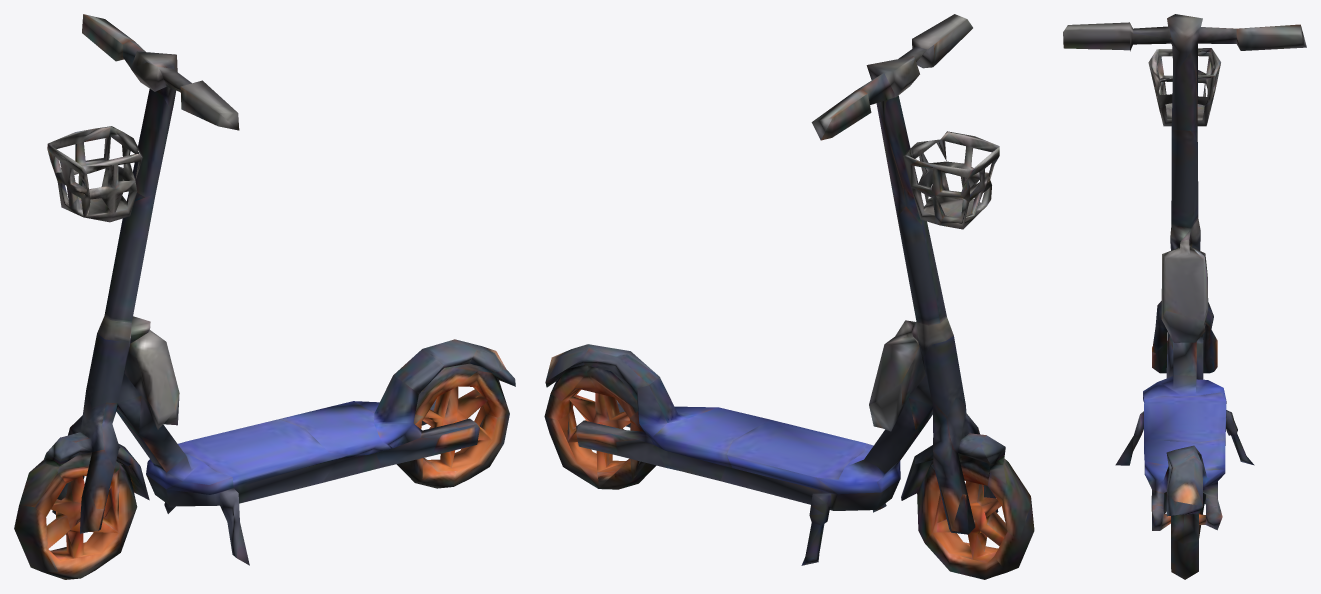
Rendered from scooter.lod.glb.
3 renders of one model, left to right at view 1: azimuth 30°, elevation 25°; view 2: azimuth 150°, elevation 25°; view 3: azimuth 270°, elevation 25°, orthographic. The views are drawn at different scales.
Visible parts, largest first — view 1: tripo_node_8225a8a8-f46b-4fe4-a907-0fed9631a1b2; view 2: tripo_node_8225a8a8-f46b-4fe4-a907-0fed9631a1b2; view 3: tripo_node_8225a8a8-f46b-4fe4-a907-0fed9631a1b2.
Boxes of the visible parts, bbox=[...] form: tripo_node_8225a8a8-f46b-4fe4-a907-0fed9631a1b2: bbox=[14, 14, 515, 579]; tripo_node_8225a8a8-f46b-4fe4-a907-0fed9631a1b2: bbox=[544, 14, 1034, 579]; tripo_node_8225a8a8-f46b-4fe4-a907-0fed9631a1b2: bbox=[1063, 14, 1306, 579].
Size of the model in its own units: 1.7 by 1.65 by 0.849.
Materials: 1 (1 with a texture image).
